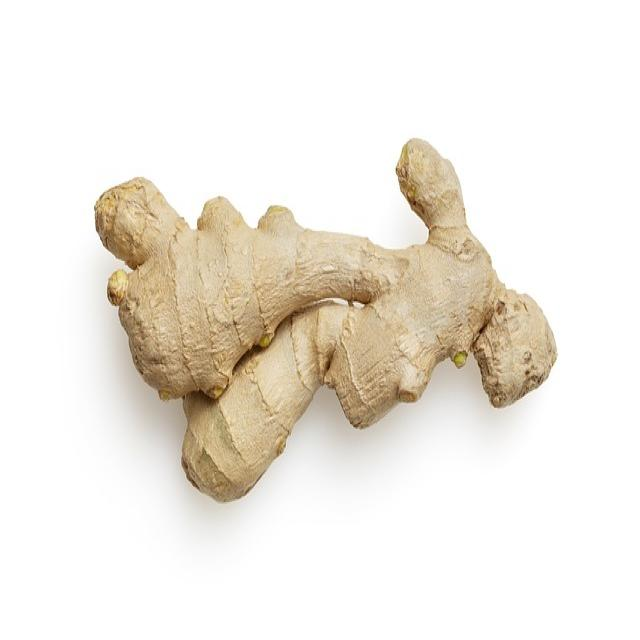ginger-root: (84, 118, 585, 525)
